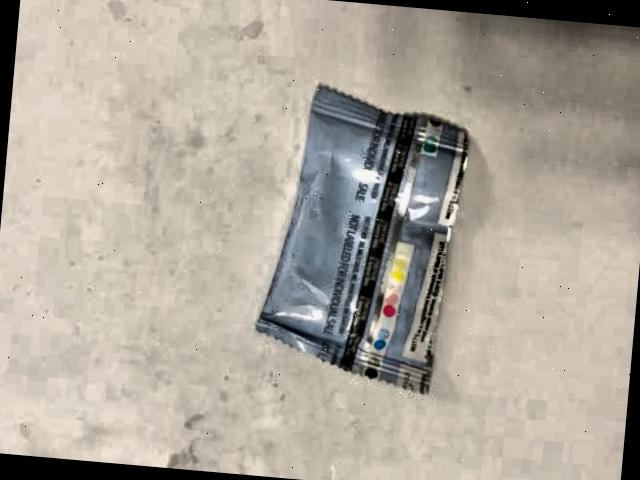Plastic: (230, 65, 496, 398)
